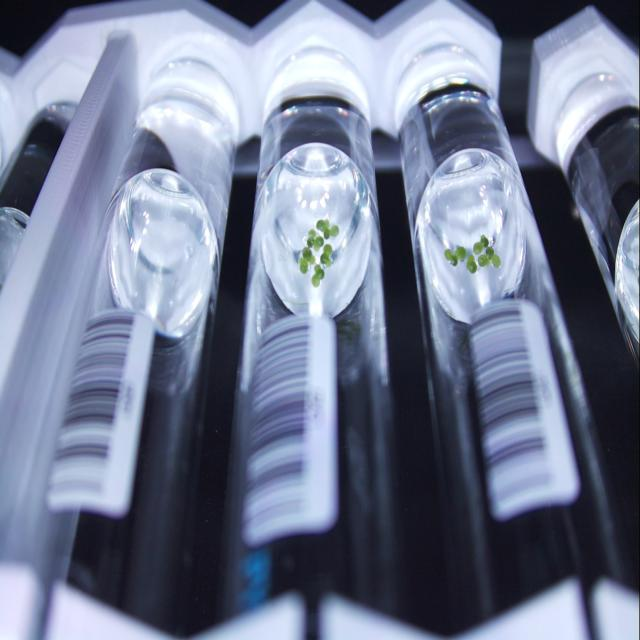Lemna-Gibba: (444, 245, 466, 266), (478, 247, 501, 267), (306, 228, 324, 252), (299, 248, 315, 274), (316, 220, 339, 238), (472, 235, 489, 254), (311, 265, 325, 287), (320, 243, 332, 268), (466, 255, 478, 274)
